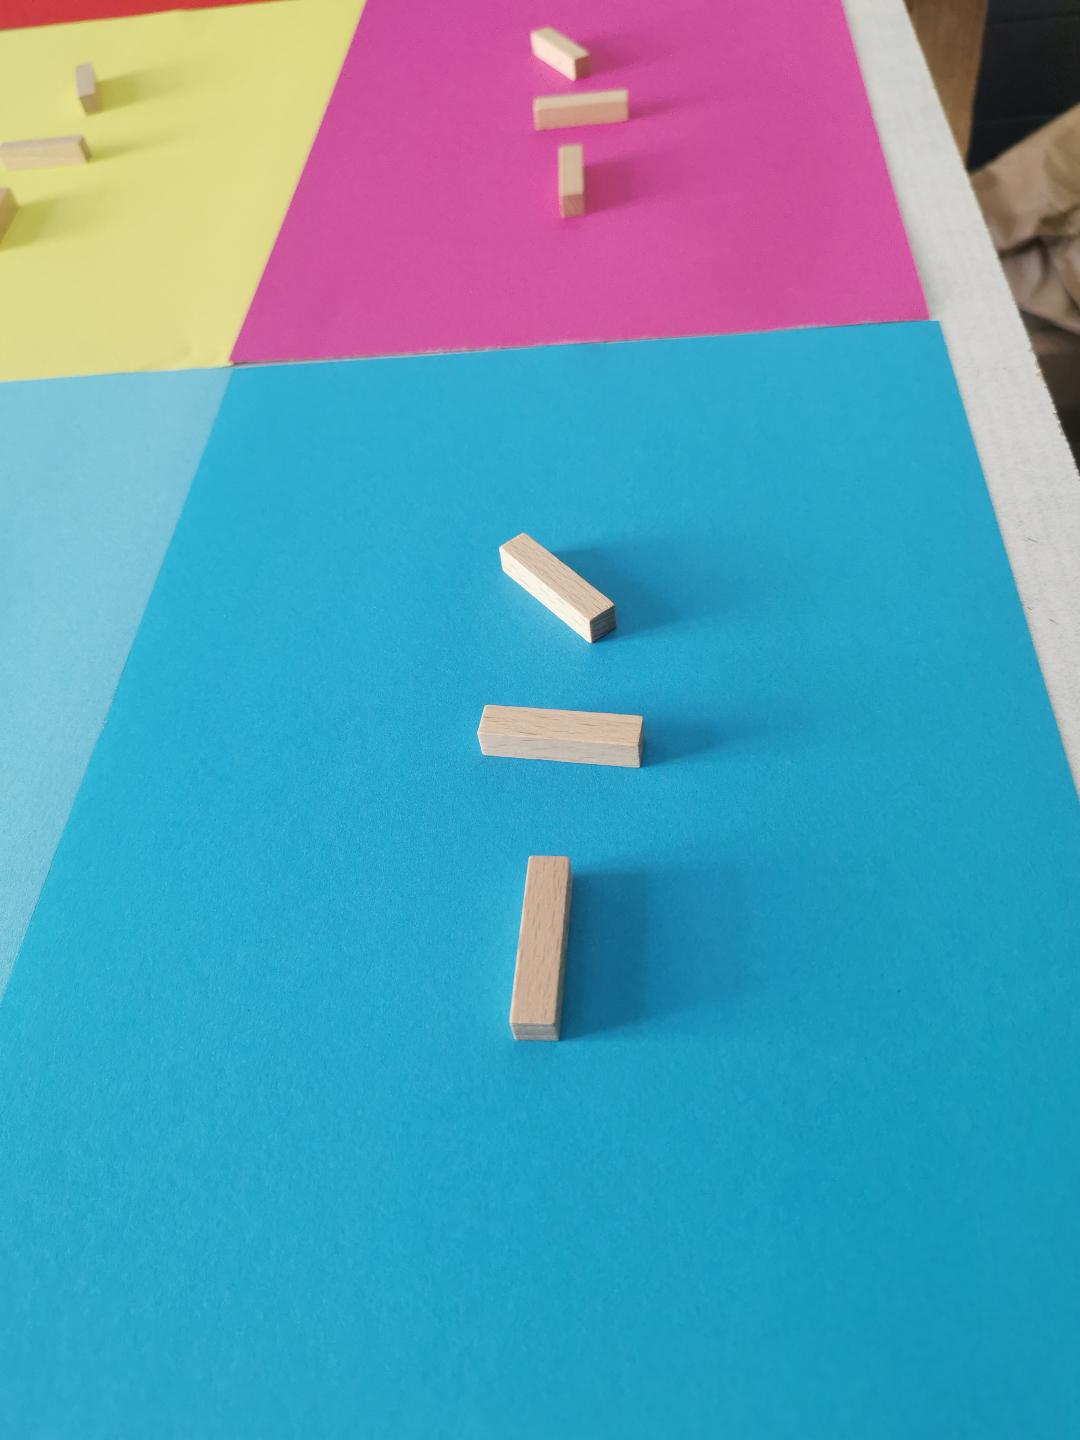jenga: (500, 534, 616, 642), (512, 855, 574, 1041), (478, 706, 644, 768), (534, 90, 627, 129), (529, 25, 591, 78), (0, 135, 90, 171), (557, 144, 585, 217), (76, 62, 101, 116)
